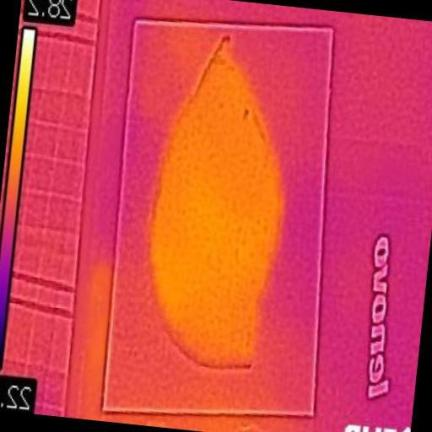mango: (154, 37, 284, 368)
